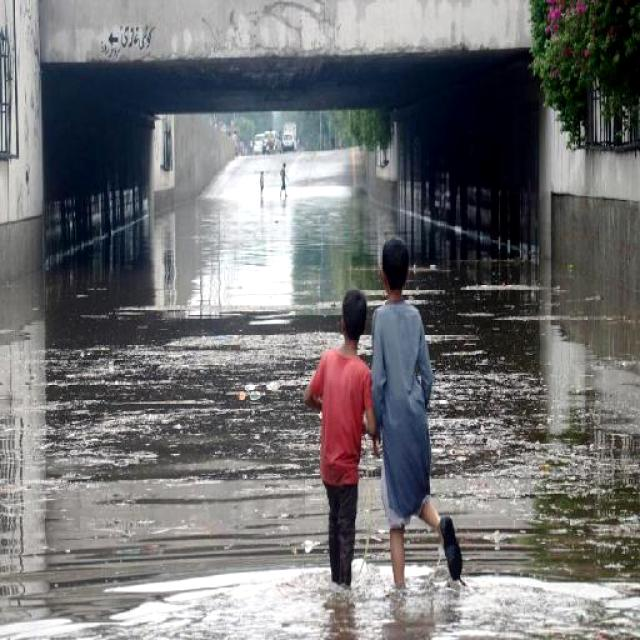civilian: (366, 218, 460, 608), (310, 254, 379, 622), (277, 160, 293, 203), (257, 165, 270, 198)
